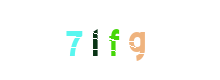7: (34, 0, 114, 80)
F: (69, 0, 149, 80)
G: (96, 0, 176, 80)
L: (65, 0, 145, 80)
